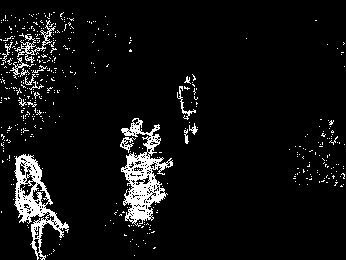person: (14, 155, 68, 258), (177, 73, 203, 144)
